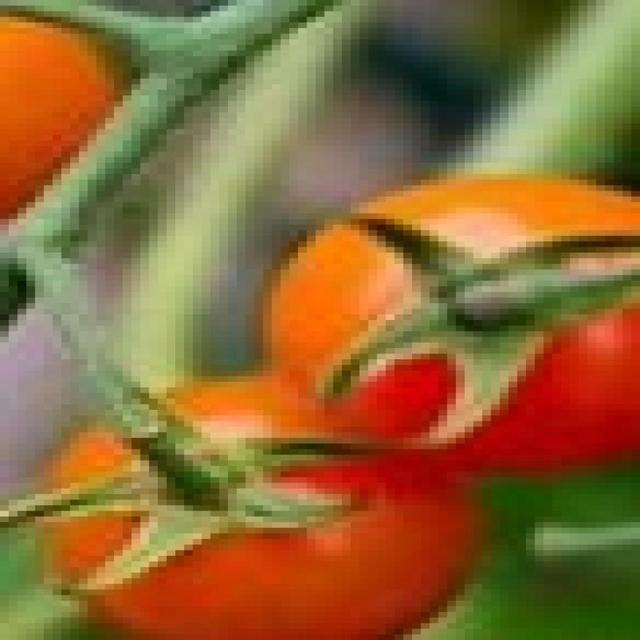Healthy Fruit: (178, 176, 305, 339)
